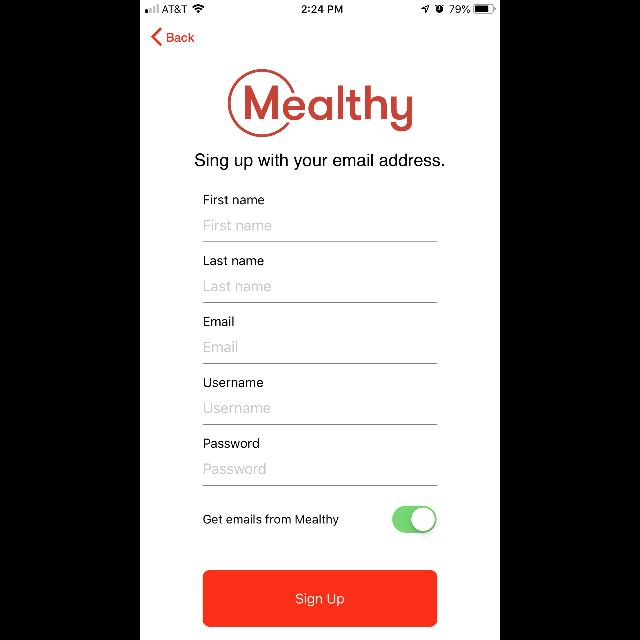icon: (152, 28, 162, 46)
image: (228, 69, 412, 137)
input: (202, 462, 438, 486), (202, 342, 438, 364), (202, 281, 438, 303), (202, 220, 438, 242), (203, 403, 437, 425)
switch: (392, 506, 436, 532)
text: (196, 154, 444, 170), (204, 514, 338, 526), (204, 280, 272, 292), (204, 402, 270, 413), (204, 220, 272, 230), (204, 464, 266, 474), (204, 195, 264, 205), (204, 256, 264, 266), (204, 378, 264, 388), (204, 438, 258, 448), (205, 342, 238, 352), (204, 316, 234, 326), (167, 34, 195, 42)
textbutton: (202, 571, 438, 627)
uppertaskbar: (140, 0, 500, 14)
